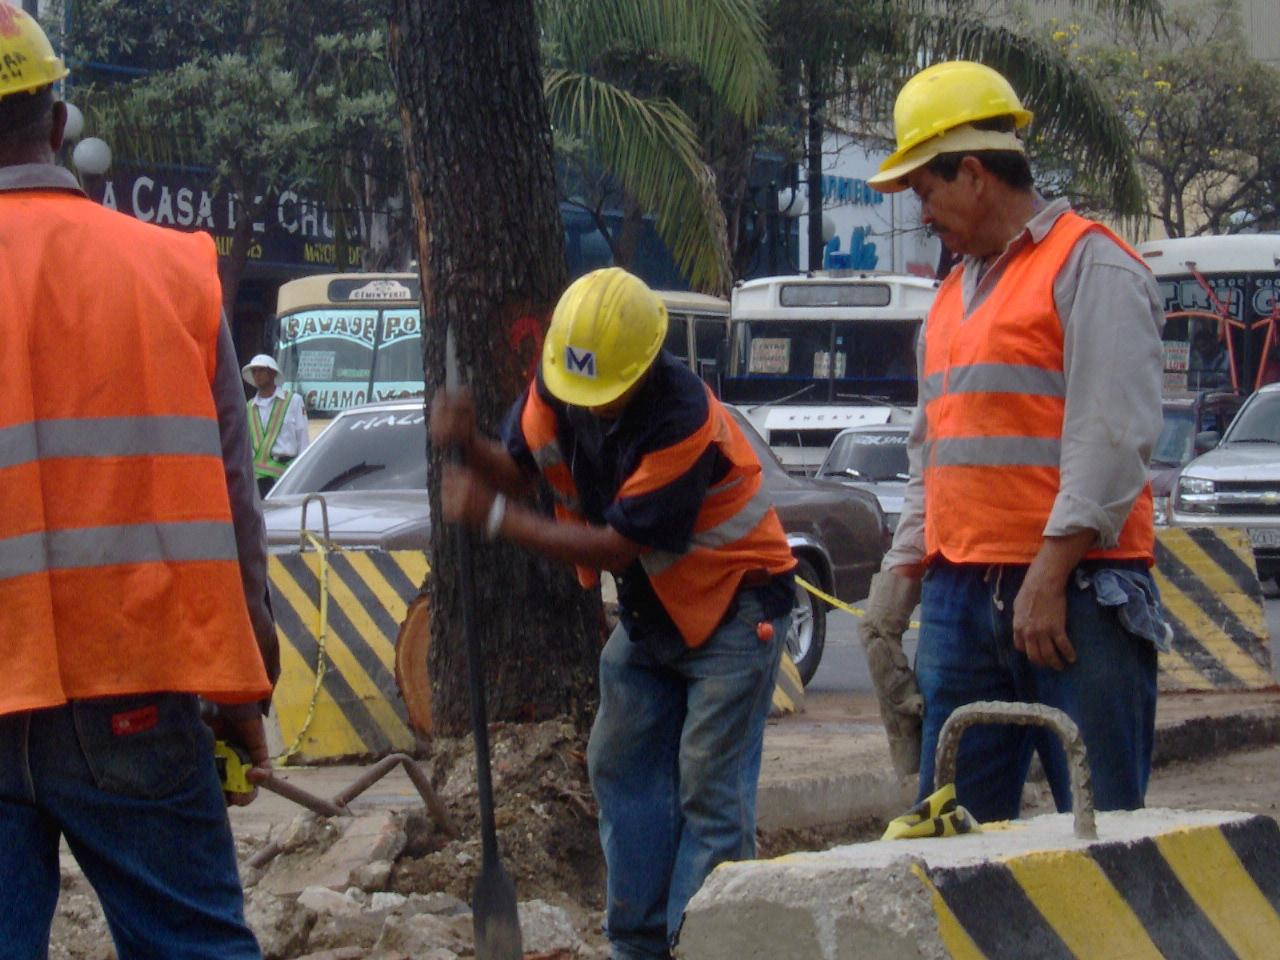hat: (821, 26, 1049, 244), (511, 194, 686, 436), (1, 1, 104, 156)
vest: (1, 146, 326, 756), (889, 201, 1191, 609), (484, 349, 826, 656)
